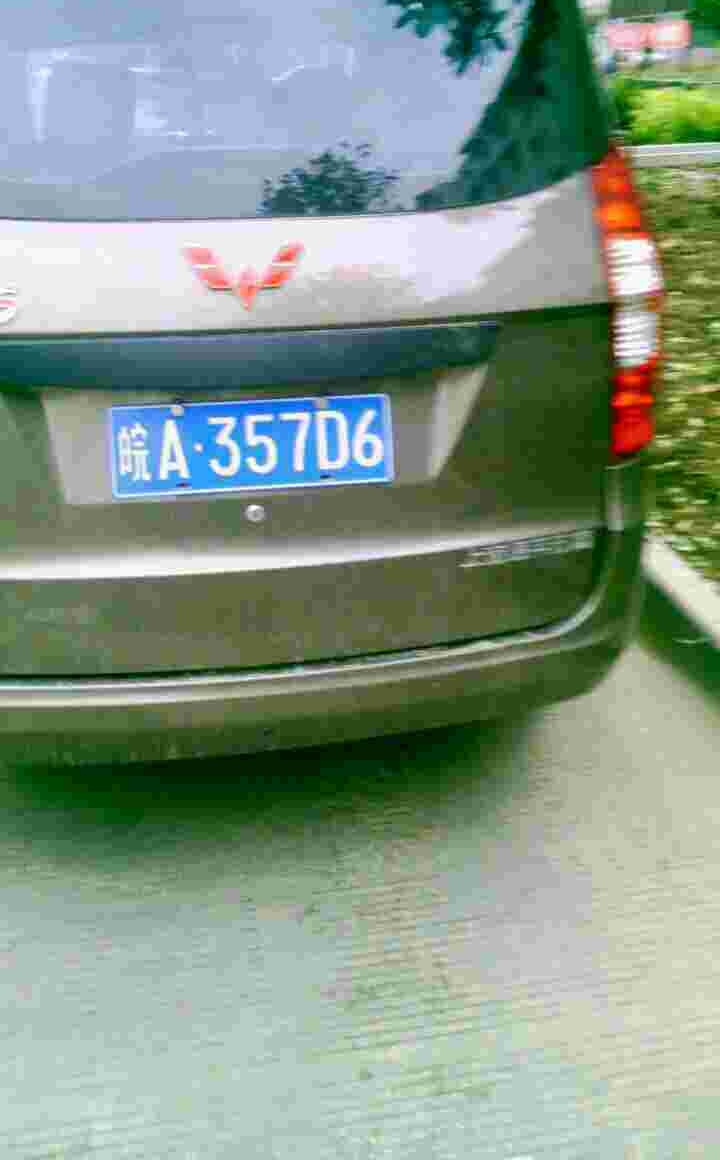license_plate: (107, 401, 383, 505)
